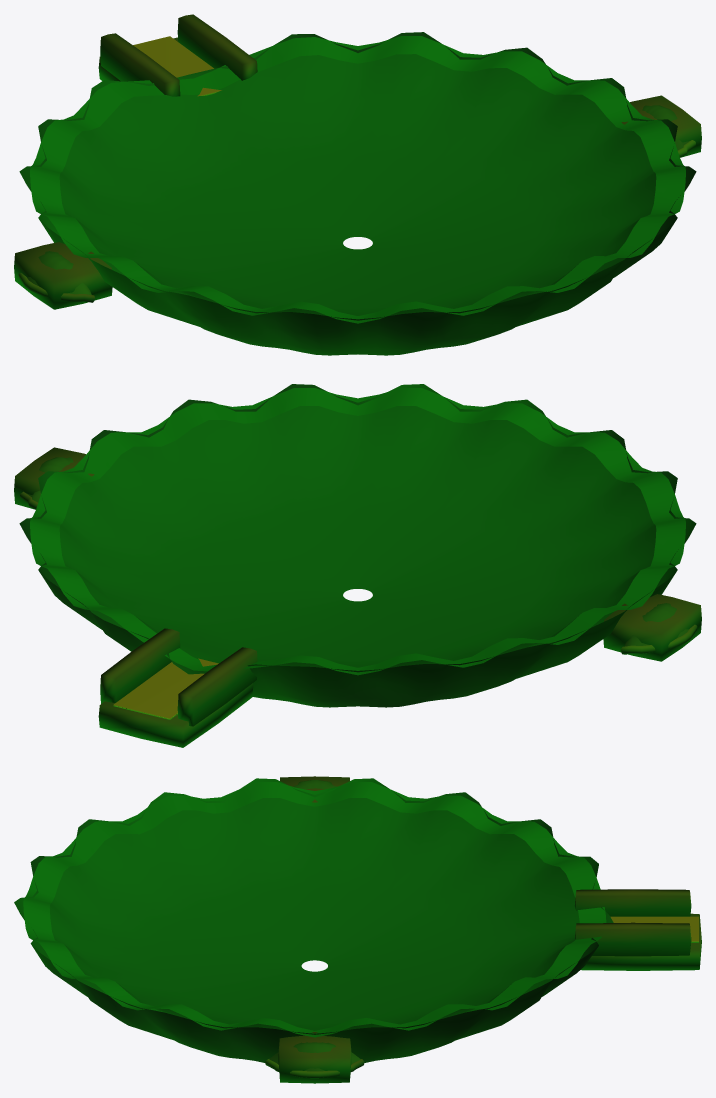
The model's file is shrine_basin_bowl.glb.
The picture shows the model from 3 angles, top to bottom: view 1: azimuth 30°, elevation 25°; view 2: azimuth 150°, elevation 25°; view 3: azimuth 270°, elevation 25°; orthographic projection. The views are drawn at different scales.
Parts seen in each view (by area): view 1: shrine_basin_bowl; view 2: shrine_basin_bowl; view 3: shrine_basin_bowl.
Part boxes in pixels (x1,y1,x2,y2): shrine_basin_bowl: (14, 14, 701, 355); shrine_basin_bowl: (14, 384, 701, 747); shrine_basin_bowl: (14, 776, 701, 1083).
Size of what is drawn, in the model's own units: 2.56 by 0.425 by 2.6.
